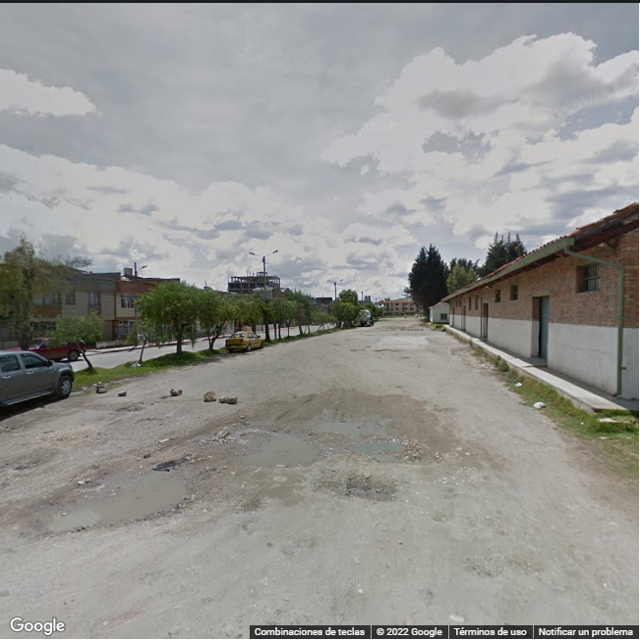D40: (42, 458, 187, 544), (223, 422, 320, 476), (341, 476, 391, 502)
